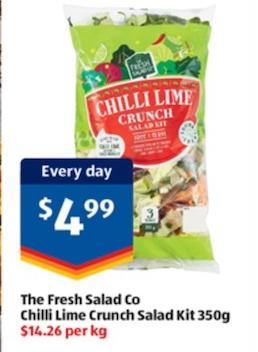description_block: (17, 290, 234, 325)
price_main: (20, 181, 129, 278)
product_image_block: (58, 10, 220, 279)
promo_text_block: (9, 150, 139, 184)
unit_price_block: (11, 321, 114, 343)
